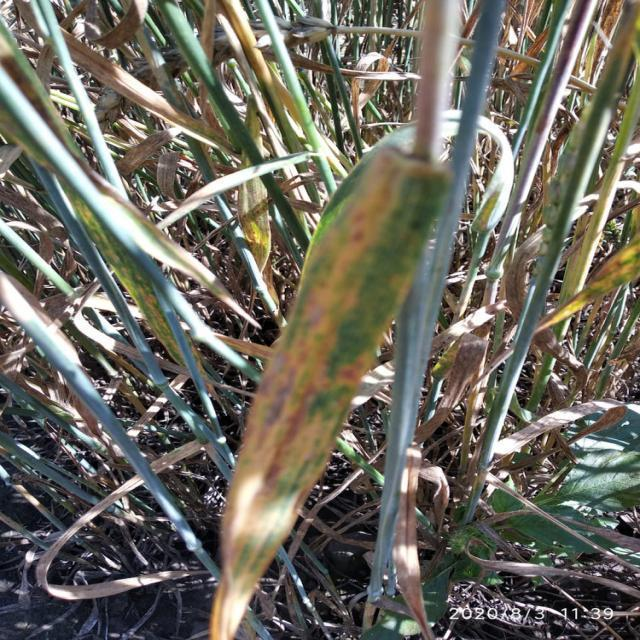Septoria: (206, 124, 452, 639)
